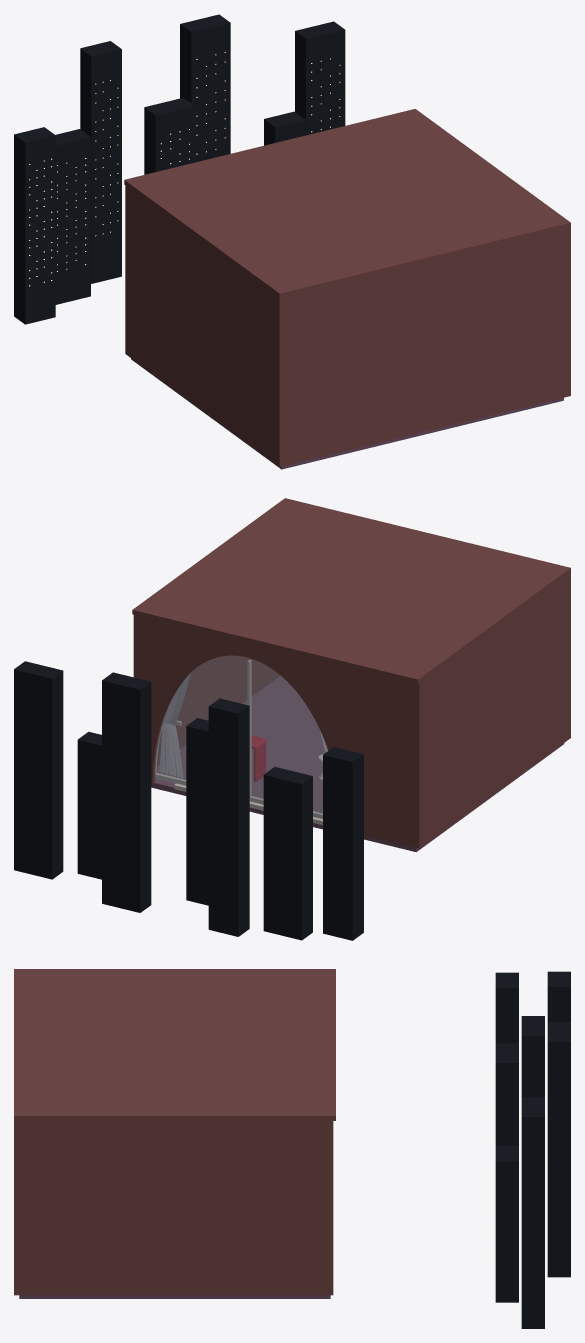
The picture shows the model from 3 angles, top to bottom: view 1: azimuth 30°, elevation 25°; view 2: azimuth 150°, elevation 25°; view 3: azimuth 270°, elevation 25°; orthographic projection. The views are drawn at different scales.
Visible parts, largest first — view 1: WALL_front_inferred, CEILING_inferred, WALL_left_inferred, CONTEXT_city_mass_2, CONTEXT_city_mass_0, CONTEXT_city_mass_4, CONTEXT_city_mass_1, CONTEXT_city_mass_6, CONTEXT_city_mass_3, FLOOR_bounded, CONTEXT_city_mass_5; view 2: CEILING_inferred, WALL_left_inferred, WINDOW_glazing, CONTEXT_city_mass_4, WALL_rear_left, CONTEXT_city_mass_6, CONTEXT_city_mass_2, CONTEXT_city_mass_1, CONTEXT_city_mass_0, FLOOR_bounded, CONTEXT_city_mass_3, WALL_right_inferred (+3 smaller); view 3: WALL_right_inferred, CEILING_inferred, CONTEXT_city_mass_4, CONTEXT_city_mass_6, CONTEXT_city_mass_5, CONTEXT_city_mass_3, CONTEXT_city_mass_1, CONTEXT_city_mass_0, FLOOR_bounded, CONTEXT_city_mass_2, WALL_front_inferred, WALL_rear_right.
Part boxes in pixels (x1,y1,x2,y2): WALL_front_inferred: (277,227,570,466); CEILING_inferred: (124,109,570,297); WALL_left_inferred: (126,187,277,464); CONTEXT_city_mass_2: (80,41,121,283); CONTEXT_city_mass_0: (14,127,55,324); CONTEXT_city_mass_4: (180,14,230,162); CONTEXT_city_mass_1: (55,129,90,304); CONTEXT_city_mass_6: (295,21,345,135); CONTEXT_city_mass_3: (144,97,194,174); FLOOR_bounded: (131,358,563,469); CONTEXT_city_mass_5: (264,111,305,145); CEILING_inferred: (132,498,570,683); WALL_left_inferred: (421,574,568,846); WINDOW_glazing: (154,656,327,819); CONTEXT_city_mass_4: (102,672,151,912); WALL_rear_left: (340,665,421,848); CONTEXT_city_mass_6: (14,661,63,879); CONTEXT_city_mass_2: (208,698,249,936); CONTEXT_city_mass_1: (263,767,312,940); CONTEXT_city_mass_0: (323,747,363,940); FLOOR_bounded: (151,676,564,852); CONTEXT_city_mass_3: (186,718,208,905); WALL_right_inferred: (157,655,280,765); WALL_right_inferred: (19,1121,330,1295); CEILING_inferred: (14,969,335,1120); CONTEXT_city_mass_4: (547,1022,570,1277); CONTEXT_city_mass_6: (521,1097,544,1328); CONTEXT_city_mass_5: (495,1146,518,1302); CONTEXT_city_mass_3: (495,1043,518,1145); CONTEXT_city_mass_1: (521,1016,544,1097); CONTEXT_city_mass_0: (495,972,518,1043); FLOOR_bounded: (19,1295,330,1298); CONTEXT_city_mass_2: (547,971,570,1022); WALL_front_inferred: (14,1121,19,1295); WALL_rear_right: (328,1121,333,1295).
Size of the model in its own units: 15.3 by 10 by 21.45.
